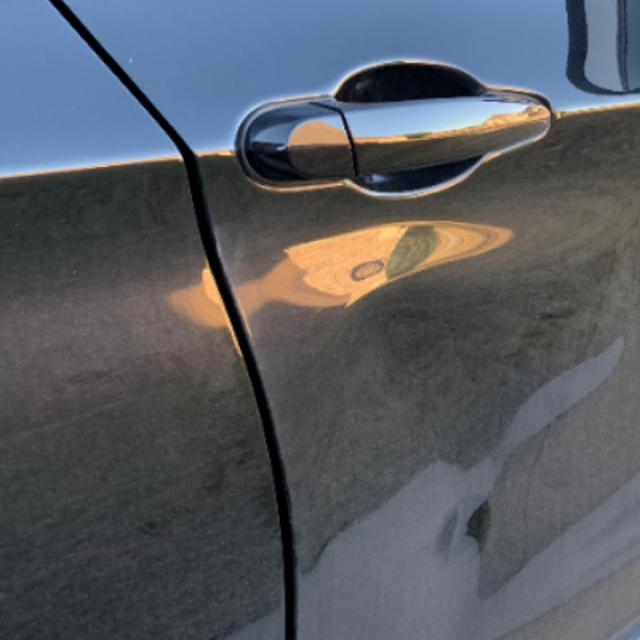dents: (410, 465, 507, 583)
